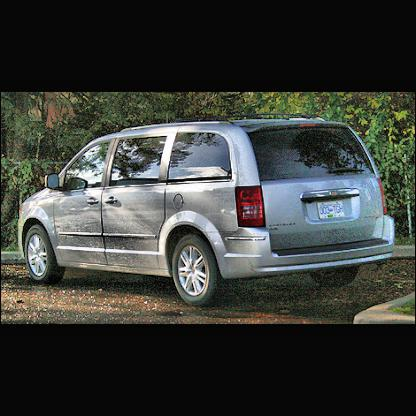Chrysler Town and Country Minivan 2012: (20, 118, 411, 307)
